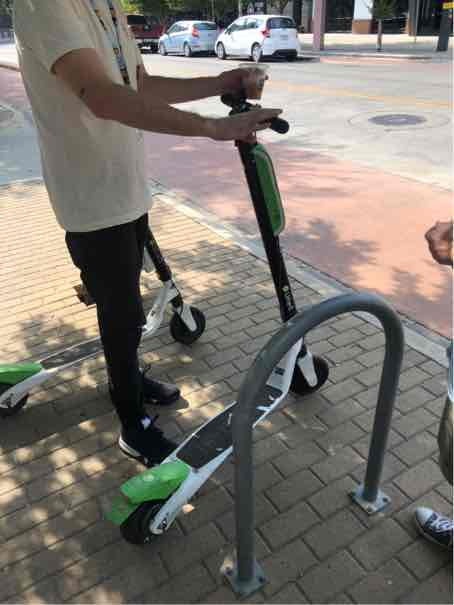scooter: (107, 75, 330, 547)
